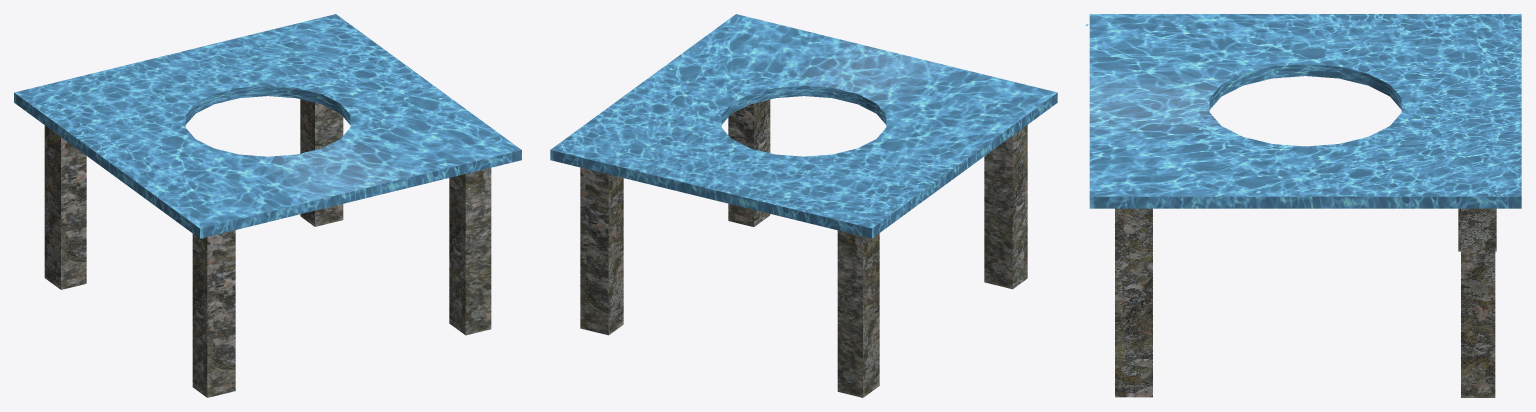
3 renders of one model, left to right at view 1: azimuth 30°, elevation 25°; view 2: azimuth 150°, elevation 25°; view 3: azimuth 270°, elevation 25°, orthographic. The views are drawn at different scales.
Parts seen in each view (by area): view 1: Table; view 2: Table; view 3: Table.
Boxes of the visible parts, x1,y1,x2,y2 form: Table: (14,14,521,397); Table: (550,14,1057,397); Table: (1086,14,1521,397).
Size of the model in its own units: 1 by 0.5414 by 1.01.
